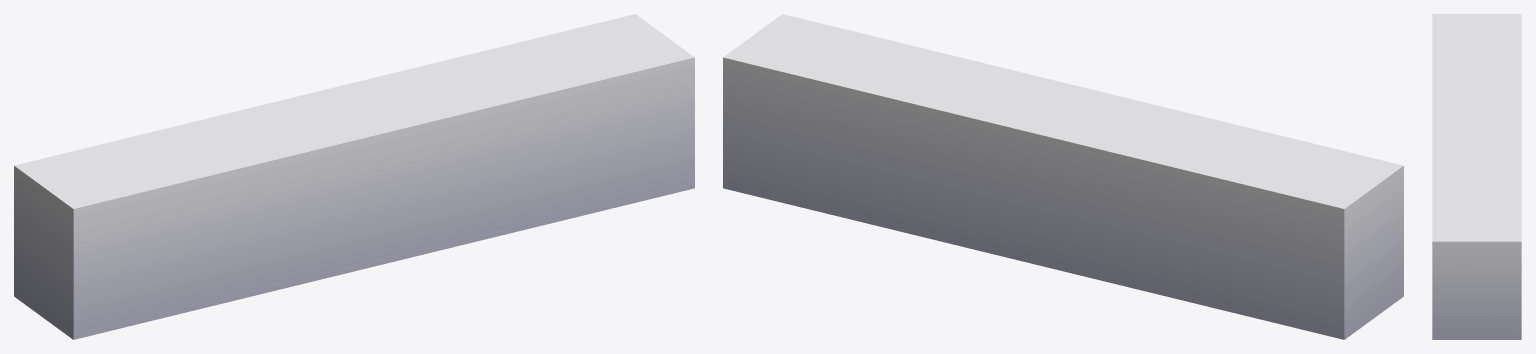
The model's file is brick-kit--none-lq-brick-1x6.glb.
The picture shows the model from 3 angles, left to right: view 1: azimuth 30°, elevation 25°; view 2: azimuth 150°, elevation 25°; view 3: azimuth 270°, elevation 25°; orthographic projection. The views are drawn at different scales.
Visible parts, largest first — view 1: none-lq-brick-1x6; view 2: none-lq-brick-1x6; view 3: none-lq-brick-1x6.
Part boxes in pixels (box(x1,y1,x2,y2)): none-lq-brick-1x6: box(14, 14, 694, 339); none-lq-brick-1x6: box(723, 14, 1403, 339); none-lq-brick-1x6: box(1432, 14, 1521, 339).
Size of the model in its own units: 0.477 by 0.096 by 0.079.
Materials: 1 (1 with a texture image).
